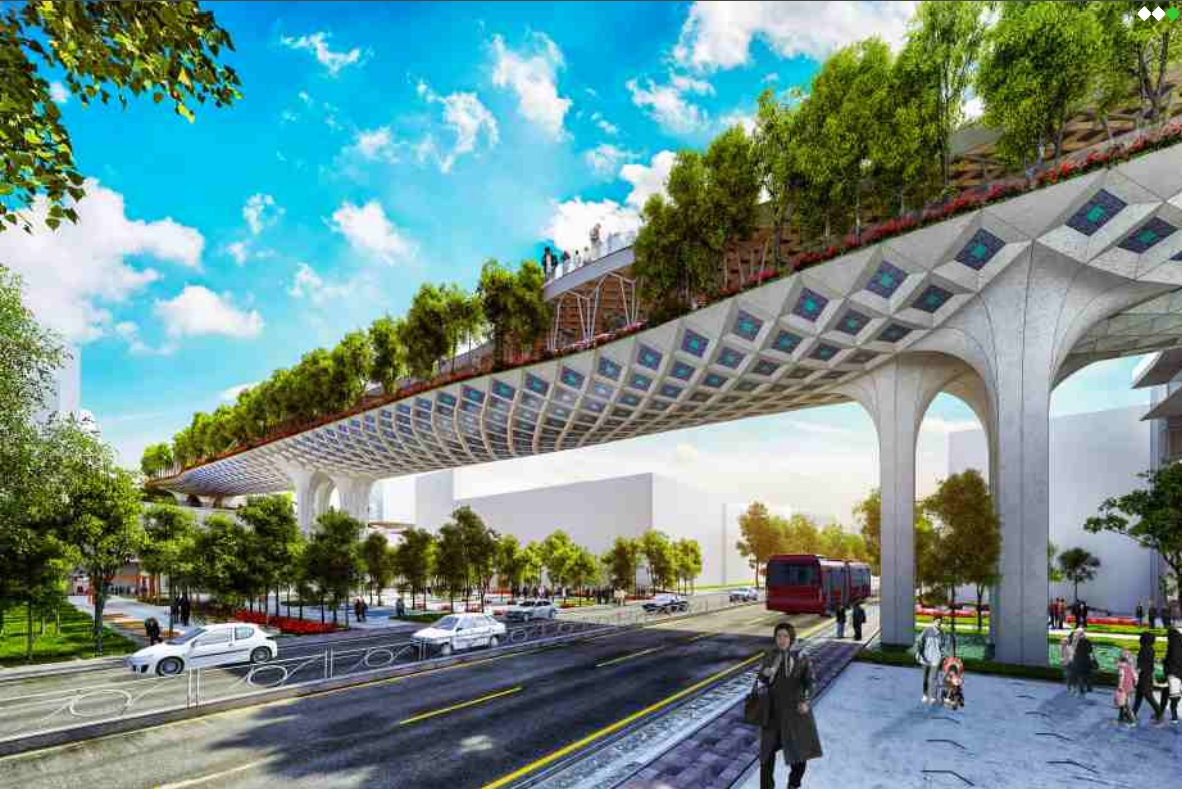bridge: (137, 69, 1179, 505)
